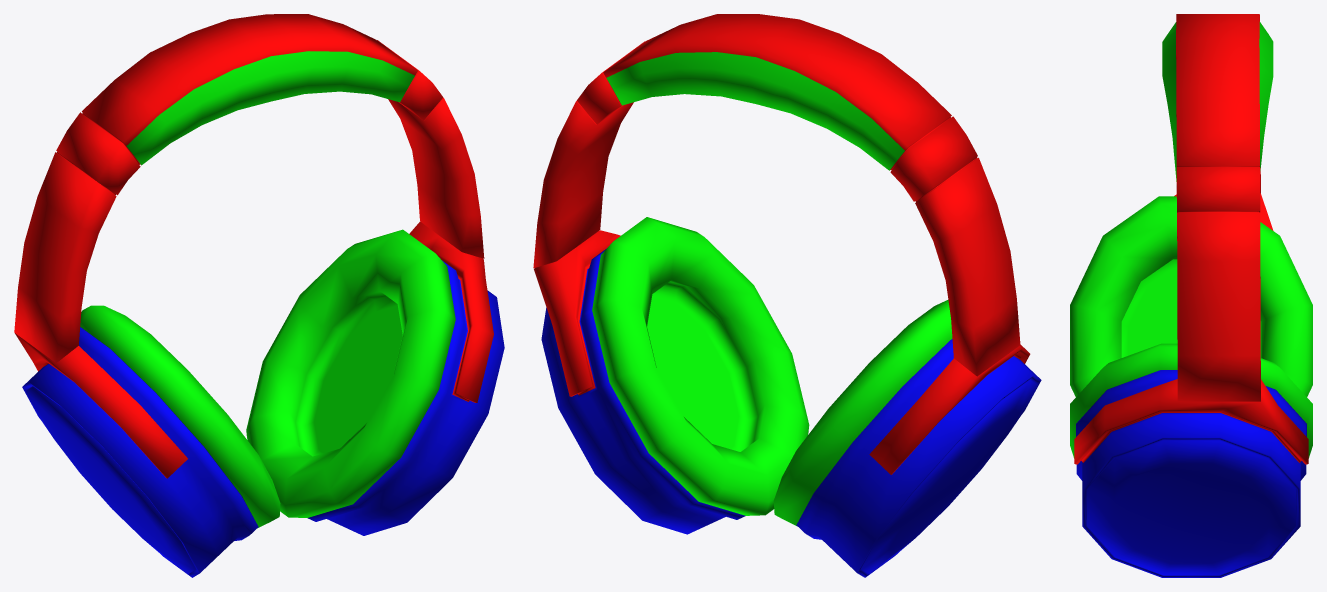
Rendered from headphones_main.glb.
3 renders of one model, left to right at view 1: azimuth 30°, elevation 25°; view 2: azimuth 150°, elevation 25°; view 3: azimuth 270°, elevation 25°, orthographic. The views are drawn at different scales.
Parts seen in each view (by area): view 1: Headphone; view 2: Headphone; view 3: Headphone.
Boxes of the visible parts, box(x1,y1,x2,y2) form: Headphone: box(14, 14, 504, 577); Headphone: box(533, 14, 1041, 577); Headphone: box(1070, 14, 1312, 577).
Bounding box in the file's own units: 1.87 × 2.04 × 0.9034.
1 material, 1 textured.
